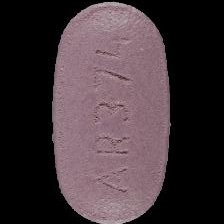63187-292: (0, 0, 224, 224)
